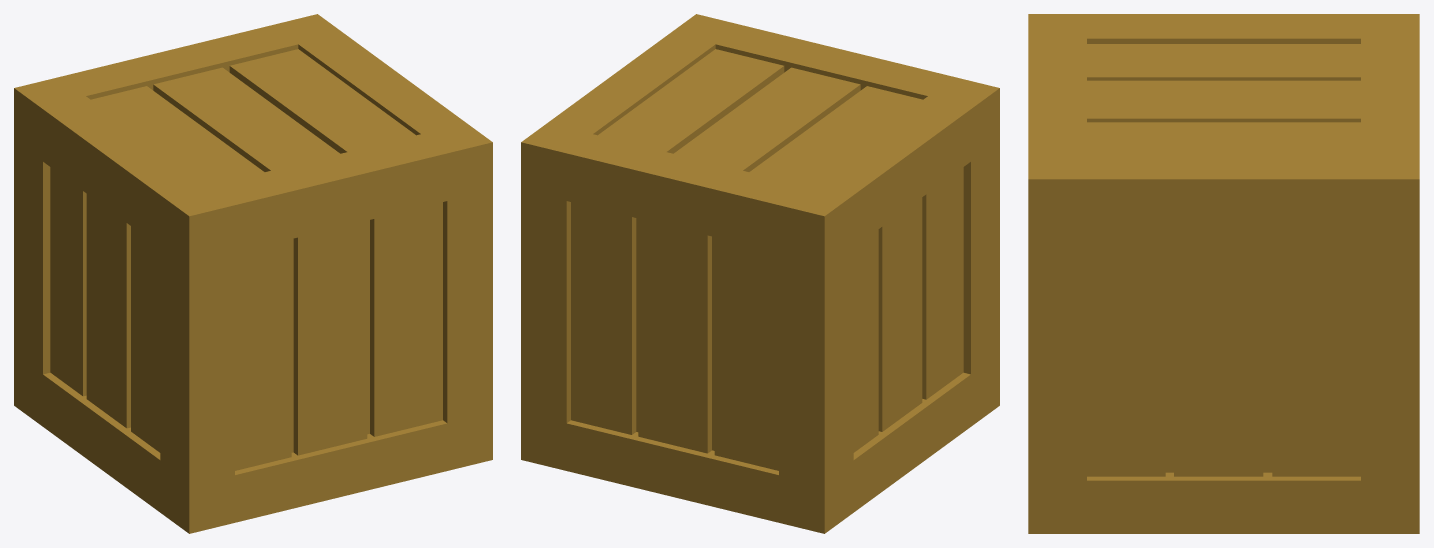
File: wooden_box.glb
3 views of the same model, side by side, from view 1: azimuth 30°, elevation 25°; view 2: azimuth 150°, elevation 25°; view 3: azimuth 270°, elevation 25° (orthographic). The views are drawn at different scales.
Parts seen in each view (by area): view 1: WoodenBox; view 2: WoodenBox; view 3: WoodenBox.
Part boxes in pixels (box(x1,y1,x2,y2)): WoodenBox: box(14, 14, 492, 533); WoodenBox: box(521, 14, 999, 533); WoodenBox: box(1028, 14, 1419, 533).
Size of the model in its own units: 1 by 1 by 1.
